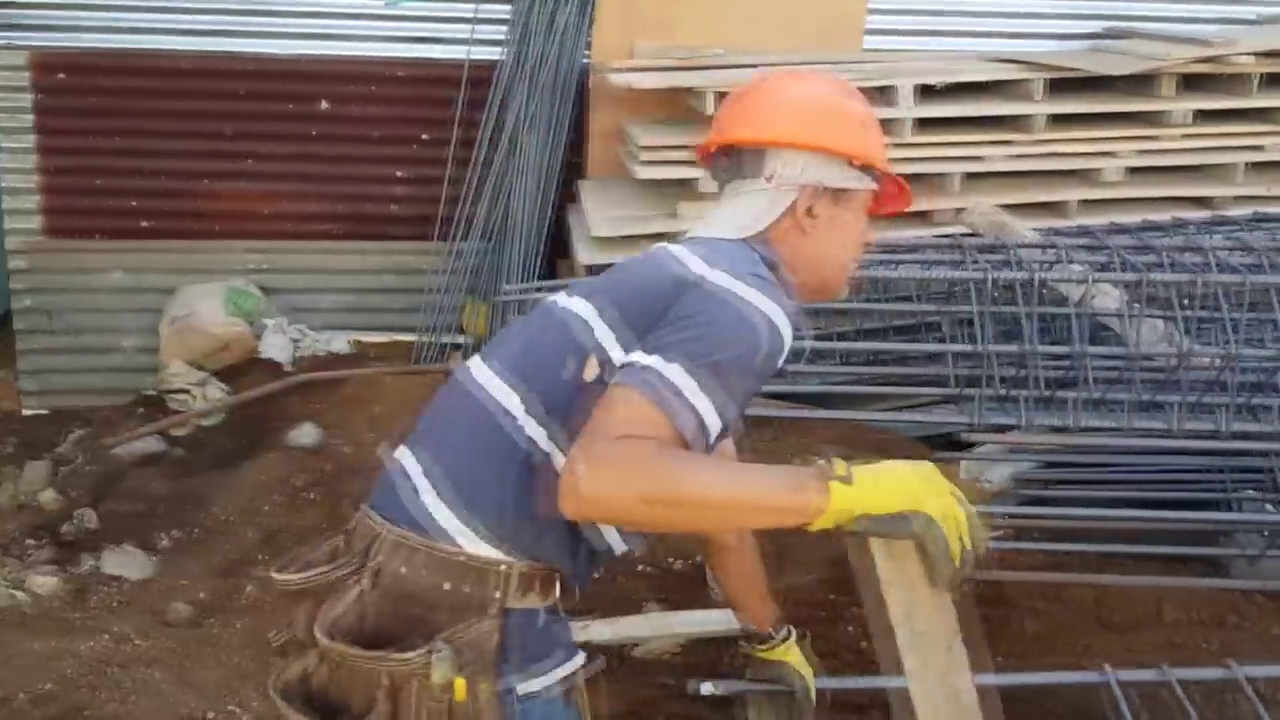helmet: (699, 73, 909, 220)
helmet-on: (687, 73, 912, 290)
person: (329, 69, 1002, 719)
